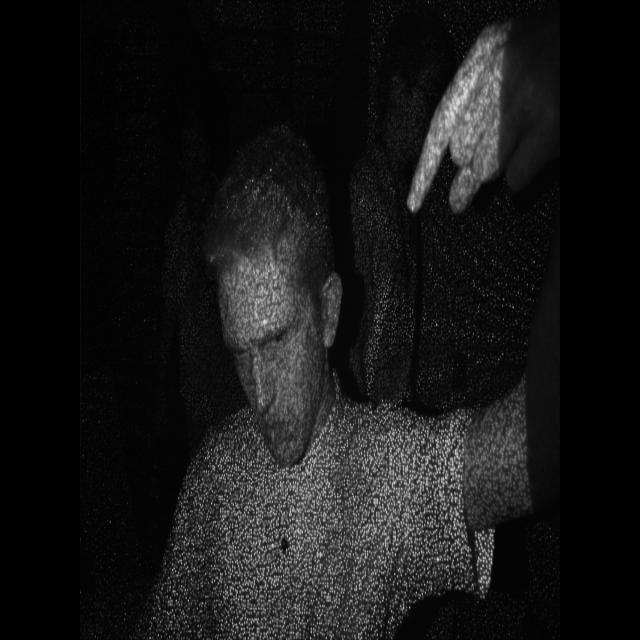Q: (401, 12, 518, 220)
